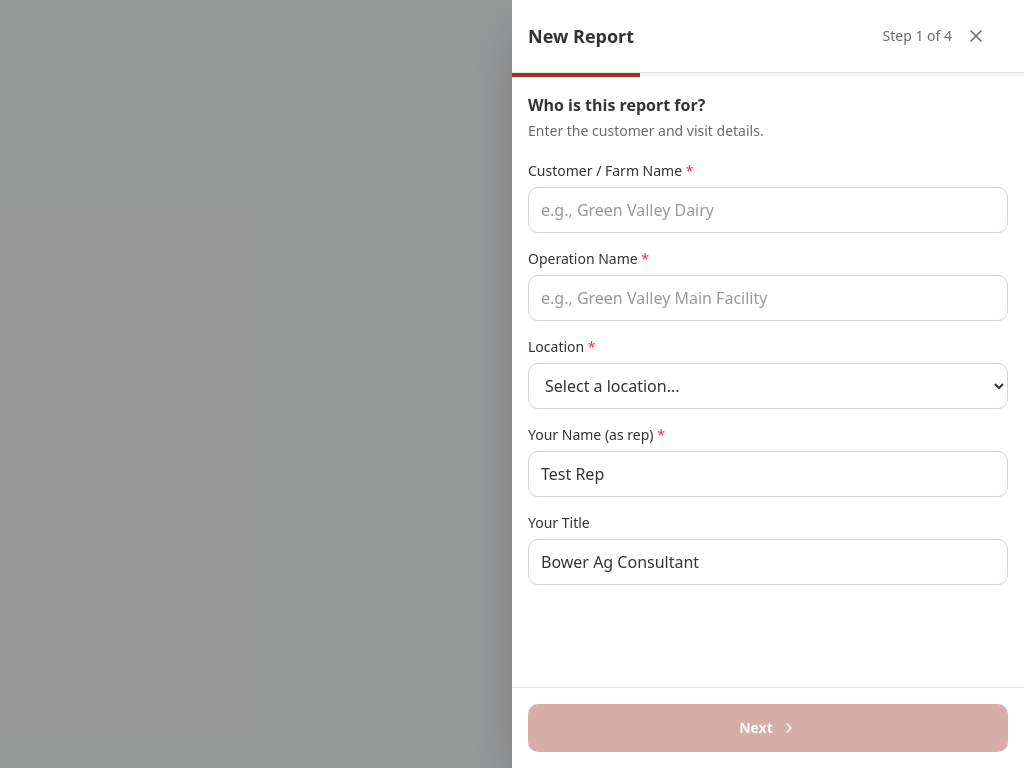
Test: NewReportForm › step 3 shows character count on textareas
The image size is (1024, 768).
# Navigate through steps 1 & 2
Type "Test Farm" into the field with placeholder "e.g., Green Valley Dairy" at (768, 210), box [528,187,1008,233]
Type "Test Op" into the field with placeholder "e.g., Green Valley Main Facility" at (768, 298), box [528,275,1008,321]
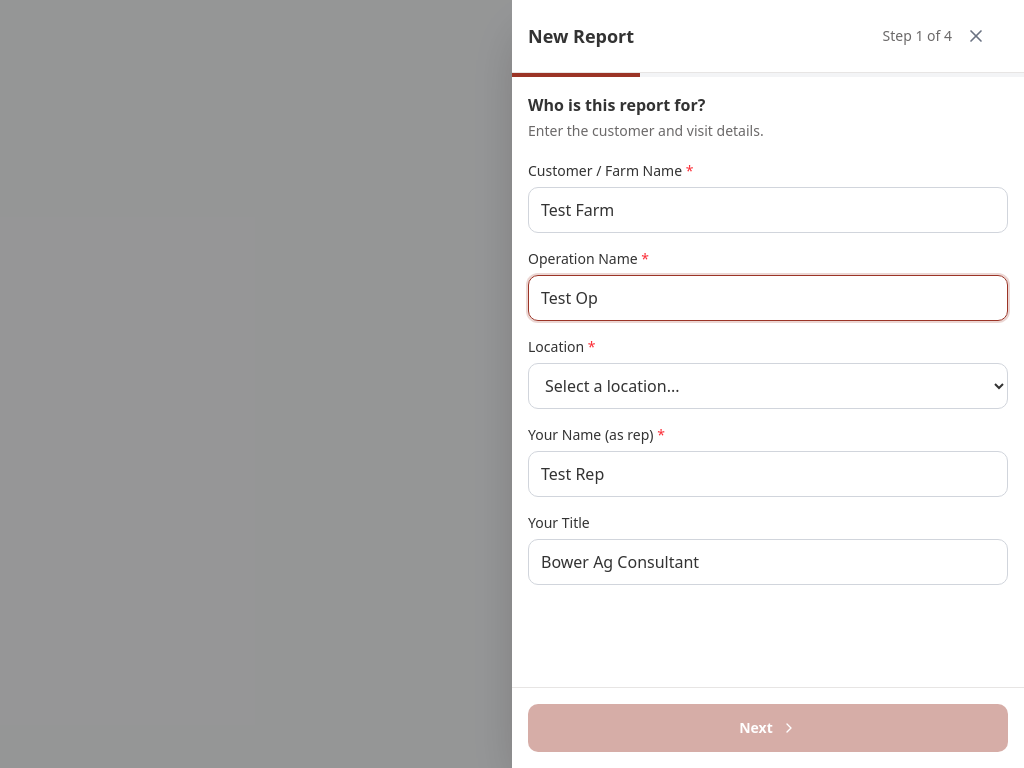
Select "Evans CO (EVANS)" in the dropdown with test id "location-select" at (768, 386), box [528,363,1008,409]
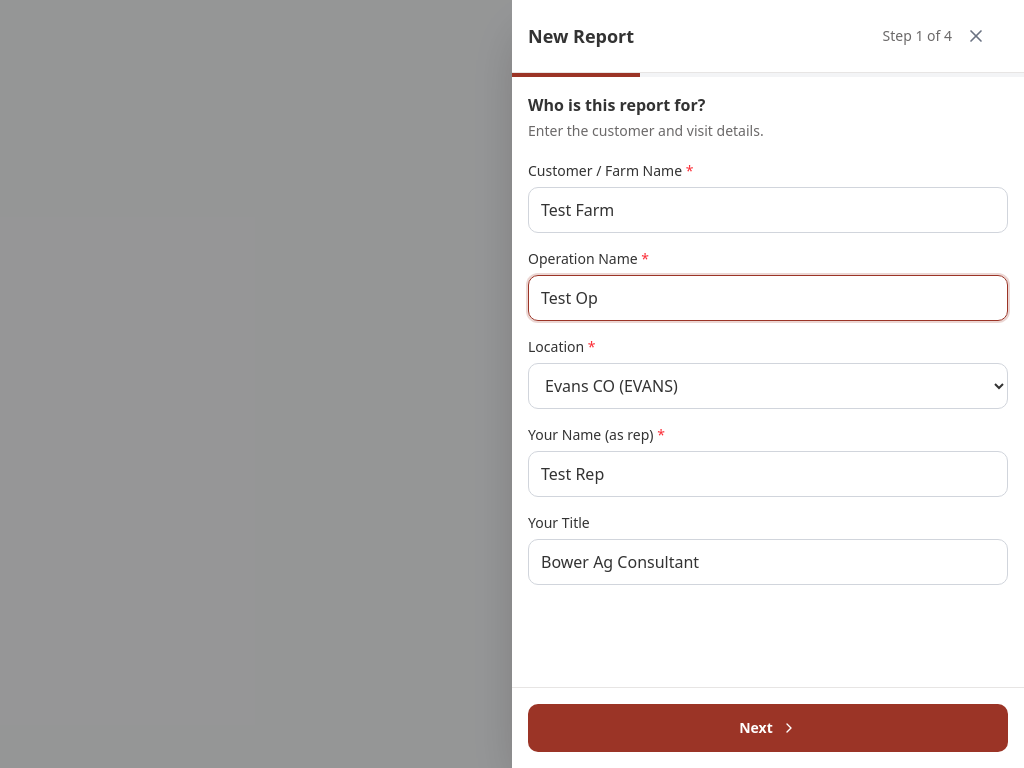
Check: the button "Next" is enabled
# Step 1 → 2
Click the button "Next" at (768, 728), box [528,704,1008,752]
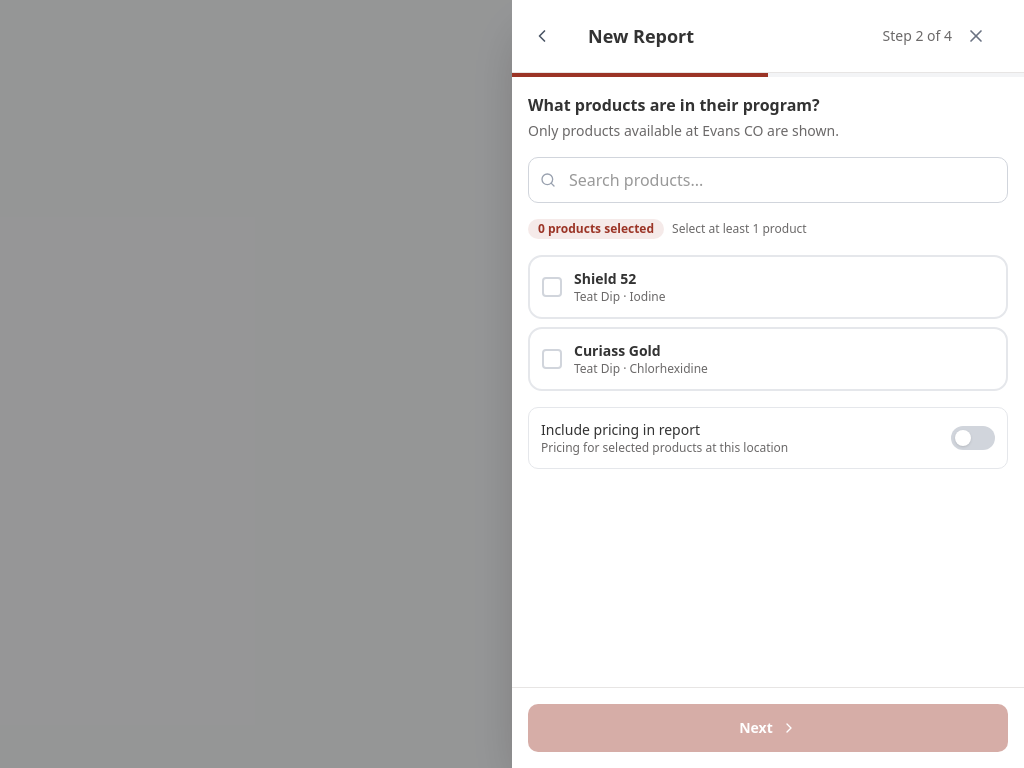
Check: the text "Shield 52" is shown
# Select a product
Click the text "Shield 52" at (605, 278), box [574,269,636,288]
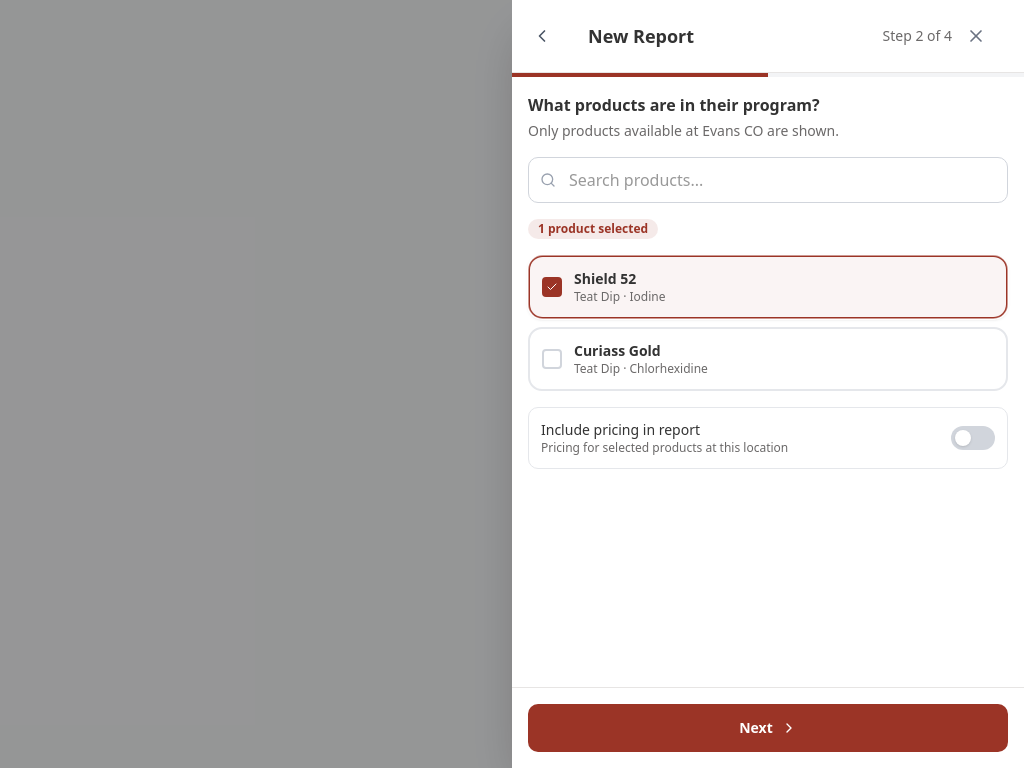
Check: the button "Next" is enabled
Click the button "Next" at (768, 728), box [528,704,1008,752]
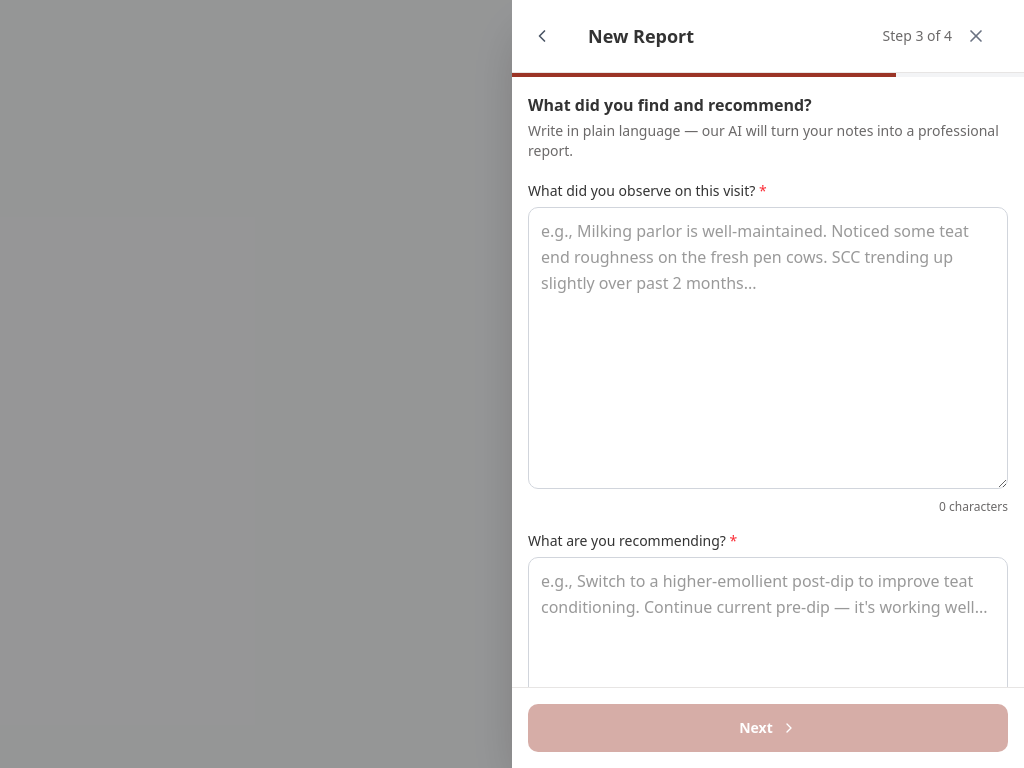
Check: the text with test id "findings-count" reads "0 characters", box [939,498,1008,515]
# Type in findings textarea
Type "Cows look healthy!" into the text box with test id "findings-textarea" at (768, 348), box [528,207,1008,489]
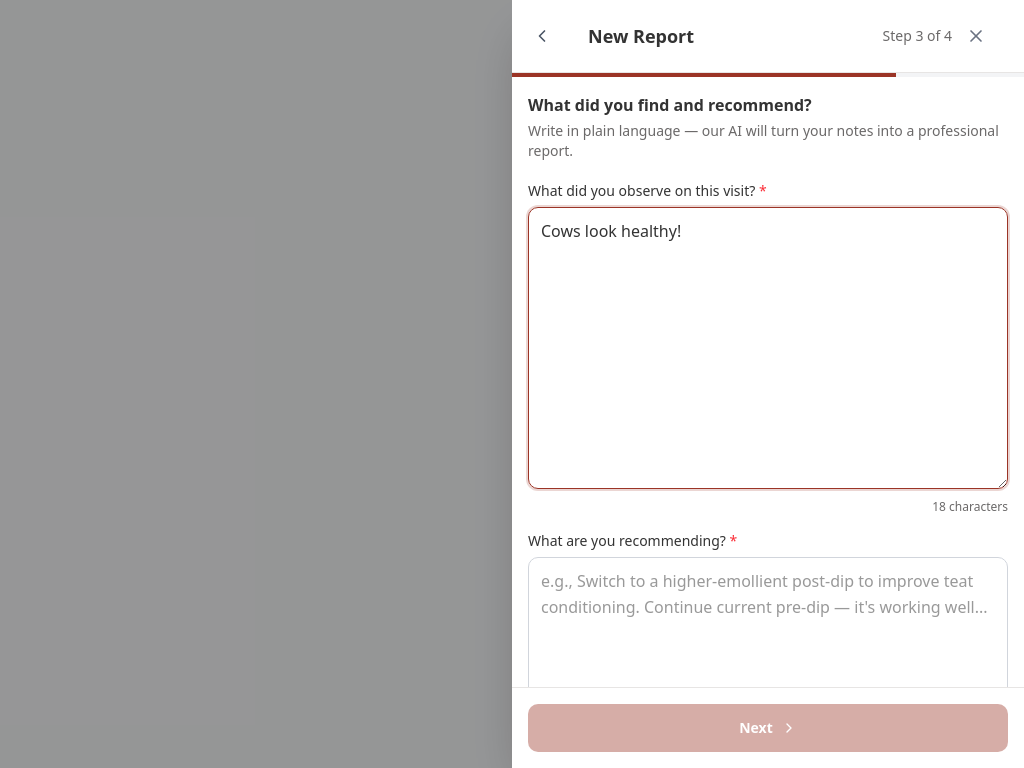
Check: the text with test id "findings-count" reads "18 characters", box [932,498,1008,515]
